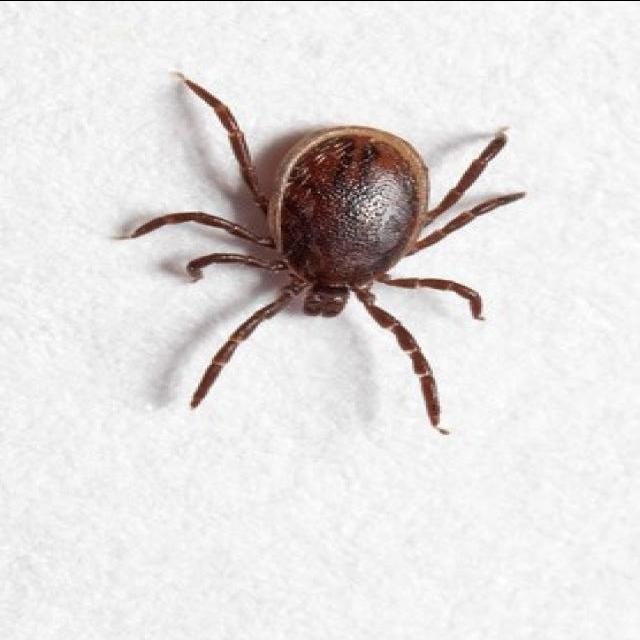Ixodes Ricinus-M: (115, 72, 529, 433)
